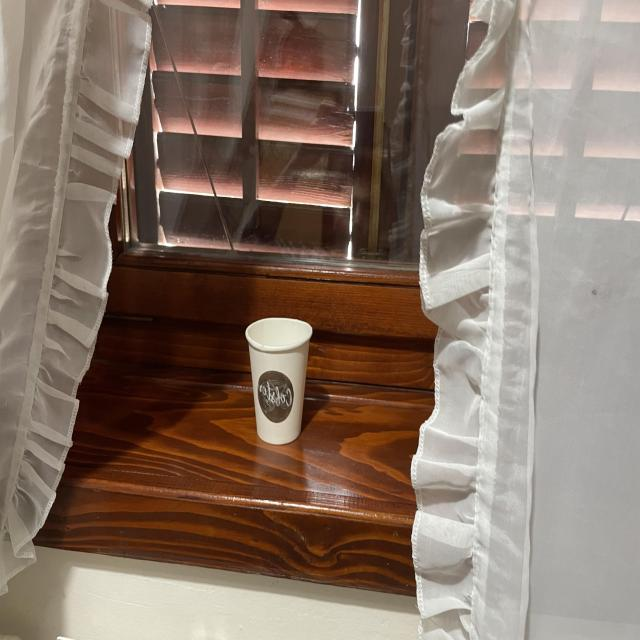medium: (244, 312, 312, 446)
